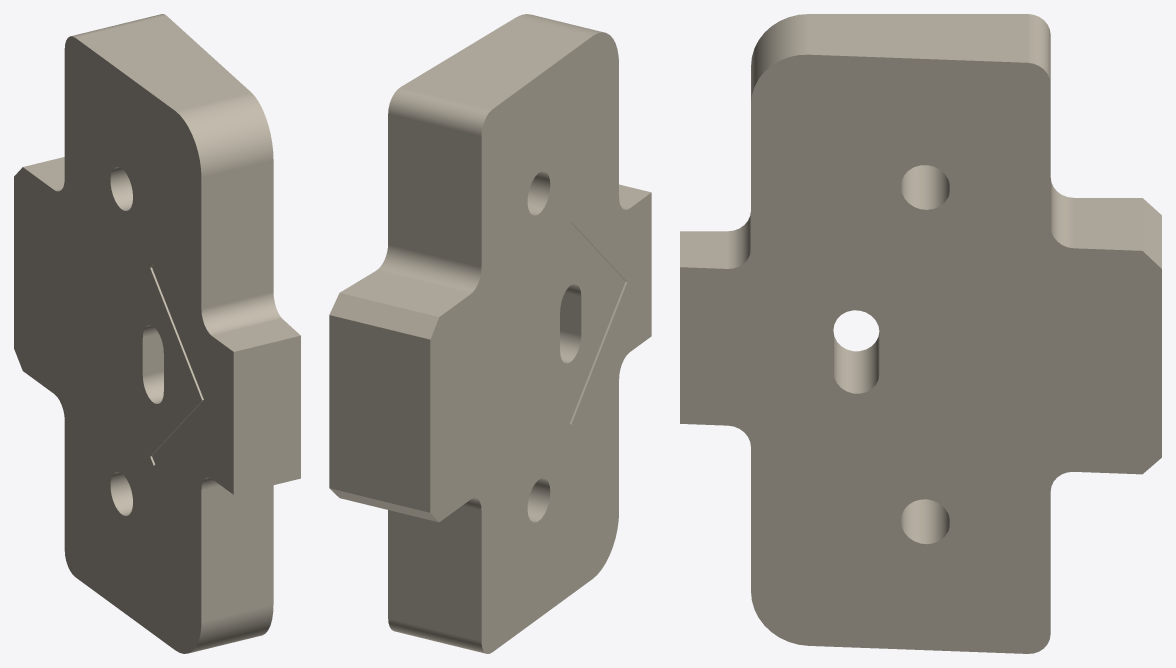
The picture shows the model from 3 angles, left to right: view 1: azimuth 30°, elevation 25°; view 2: azimuth 150°, elevation 25°; view 3: azimuth 270°, elevation 25°; orthographic projection. The views are drawn at different scales.
Visible parts, largest first — view 1: bau0006168351; view 2: bau0006168351; view 3: bau0006168351.
Boxes of the visible parts, left/top/right/bottom form: bau0006168351: left=14, top=14, right=300, bottom=653; bau0006168351: left=329, top=14, right=651, bottom=653; bau0006168351: left=680, top=14, right=1161, bottom=653.
Bounding box in the file's own units: 11.04 × 56.6 × 41.8.
